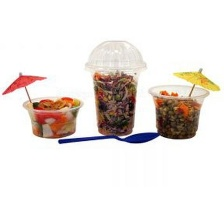glass: (82, 35, 152, 142), (146, 82, 213, 143), (19, 90, 87, 140)
